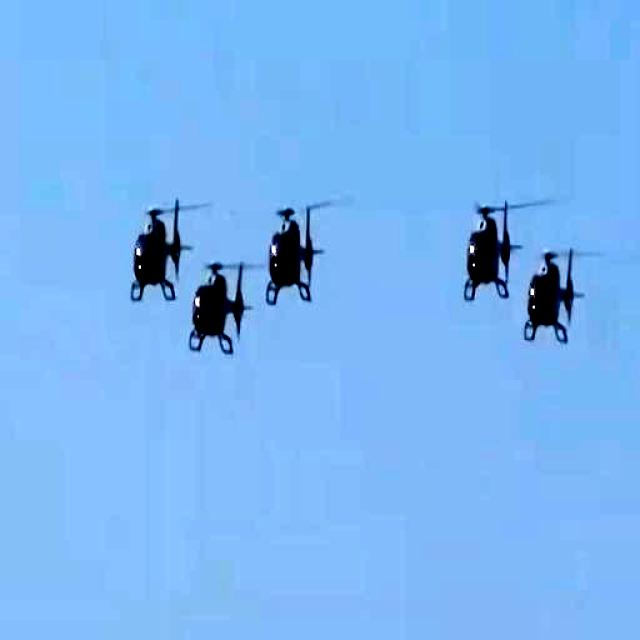drone: (256, 190, 338, 300), (459, 188, 529, 299), (185, 254, 256, 354), (518, 232, 581, 341), (129, 199, 192, 306)
